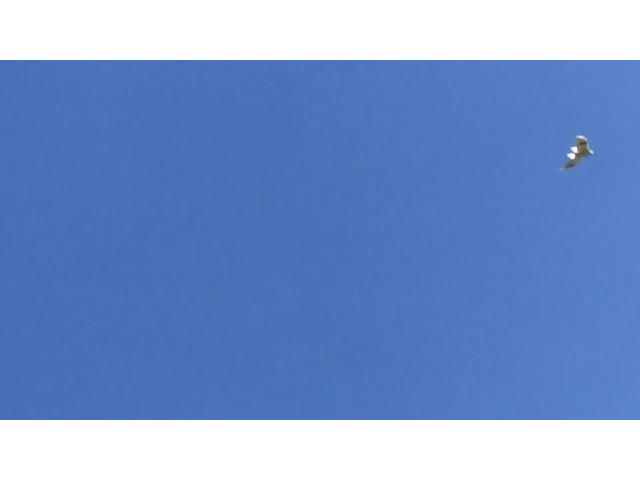Anti-Drone: (552, 110, 602, 194)
